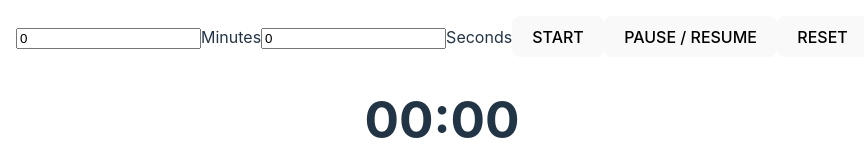
Test case: RunningClock › timer behavior (with fake timers) › pauses and resumes timer
Replace the text in the number field labelled "Seconds" with "10": x=354, y=38 [261, 28, 446, 48]
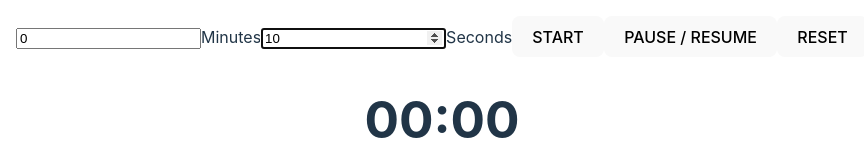
Click the button "START": x=558, y=37 [512, 16, 604, 57]
Wait 2000 ms
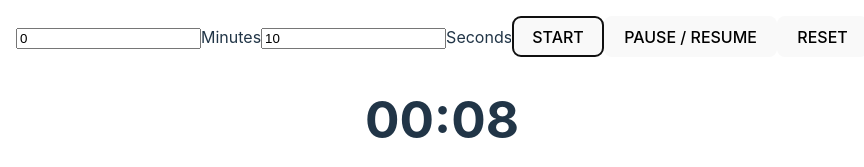
Result: the heading with test id "running-clock" reads "00:08" at [365, 88, 519, 150]
Click the button "PAUSE / RESUME": x=691, y=37 [604, 16, 777, 57]
Wait 3000 ms
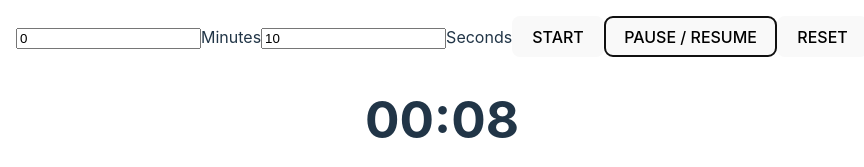
Result: the heading with test id "running-clock" reads "00:08" at [365, 88, 519, 150]
Click the button "PAUSE / RESUME": x=691, y=37 [604, 16, 777, 57]
Wait 2000 ms
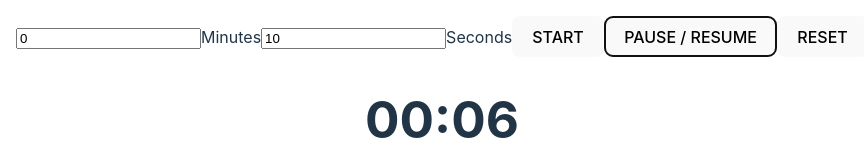
Result: the heading with test id "running-clock" reads "00:06" at [365, 88, 519, 150]
